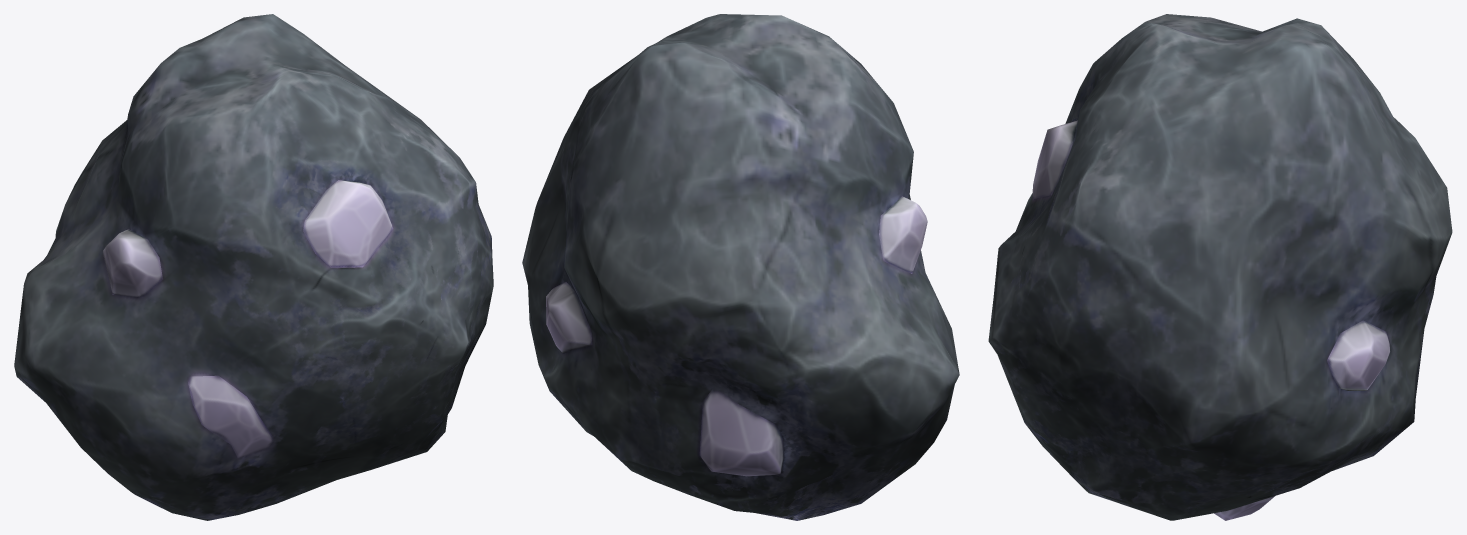
The model's file is SM_Gem_Diamond_003.fbx.
3 views of the same model, side by side, from view 1: azimuth 30°, elevation 25°; view 2: azimuth 150°, elevation 25°; view 3: azimuth 270°, elevation 25° (orthographic). The views are drawn at different scales.
Visible parts, largest first — view 1: SM_Gem_Diamond_003; view 2: SM_Gem_Diamond_003; view 3: SM_Gem_Diamond_003.
Boxes of the visible parts, <box> form: SM_Gem_Diamond_003: <box>14,14,493,520</box>; SM_Gem_Diamond_003: <box>522,14,959,520</box>; SM_Gem_Diamond_003: <box>988,14,1452,520</box>.
Size of the model in its own units: 72.03 by 71.76 by 63.02.
